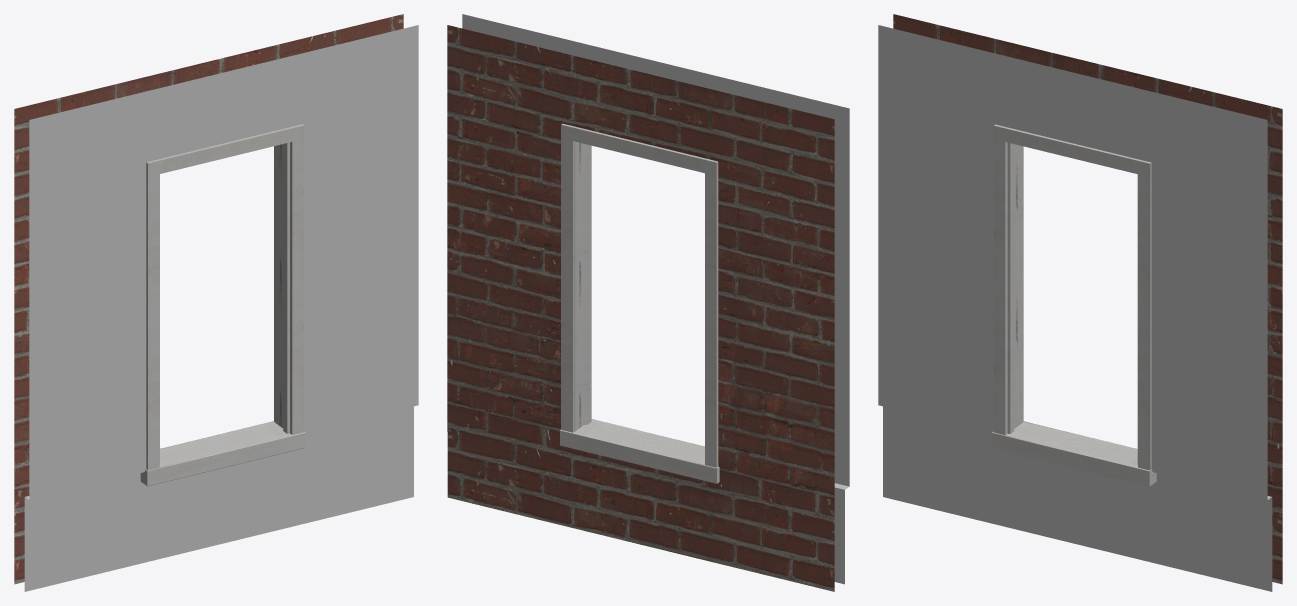
File: In_Wall_Door_Single_A_3x.FBX
3 renders of one model, left to right at view 1: azimuth 30°, elevation 25°; view 2: azimuth 150°, elevation 25°; view 3: azimuth 330°, elevation 25°, orthographic.
Parts seen in each view (by area): view 1: Wall_Door_Single_A_3x; view 2: Wall_Door_Single_A_3x; view 3: Wall_Door_Single_A_3x.
Part boxes in pixels (x1,y1,x2,y2): Wall_Door_Single_A_3x: [14, 14, 418, 591]; Wall_Door_Single_A_3x: [447, 14, 849, 591]; Wall_Door_Single_A_3x: [878, 14, 1282, 591].
Bounding box in the file's own units: 300 × 350 × 26.39.
